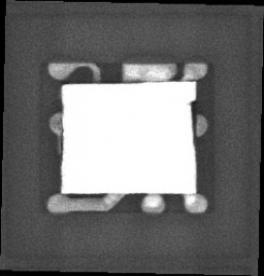DIE_BROKEN: (186, 98, 198, 147)
